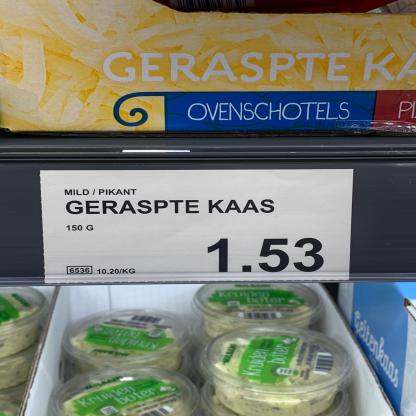prtg: (42, 170, 355, 285)
